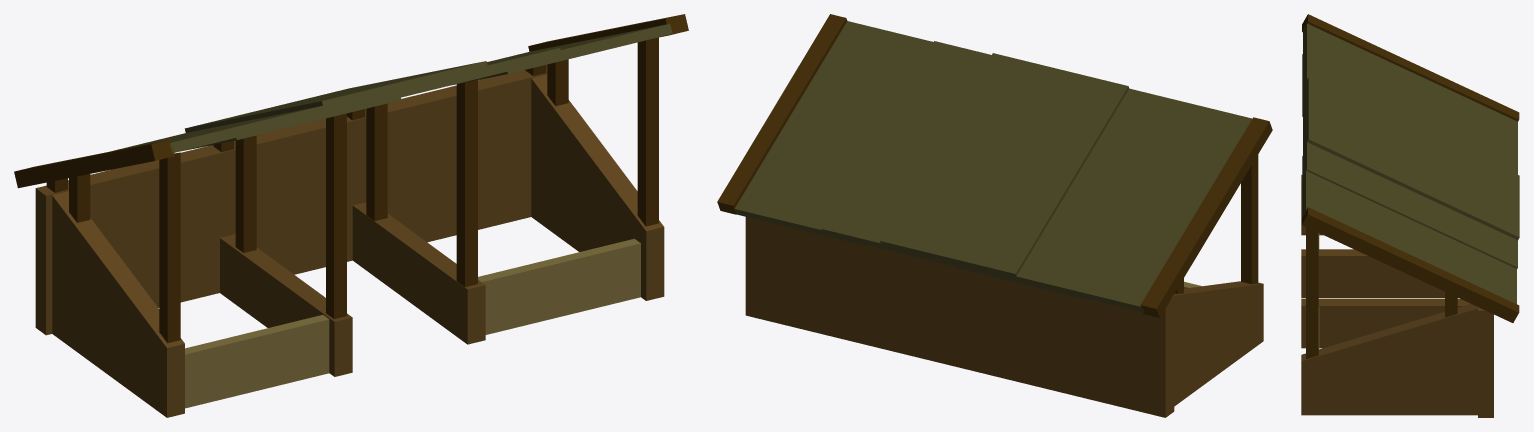
Rendered from Mesh_Farm_Stables.fbx.
3 renders of one model, left to right at view 1: azimuth 30°, elevation 25°; view 2: azimuth 150°, elevation 25°; view 3: azimuth 270°, elevation 25°, orthographic. The views are drawn at different scales.
Parts seen in each view (by area): view 1: Farm_Stables; view 2: Farm_Stables; view 3: Farm_Stables.
Part boxes in pixels (x1=…): Farm_Stables: x1=14, y1=14, x2=688, y2=417; Farm_Stables: x1=717, y1=14, x2=1272, y2=417; Farm_Stables: x1=1301, y1=14, x2=1519, y2=417.
Size of the model in its own units: 1088 by 535 by 501.
1 material, 1 textured.
